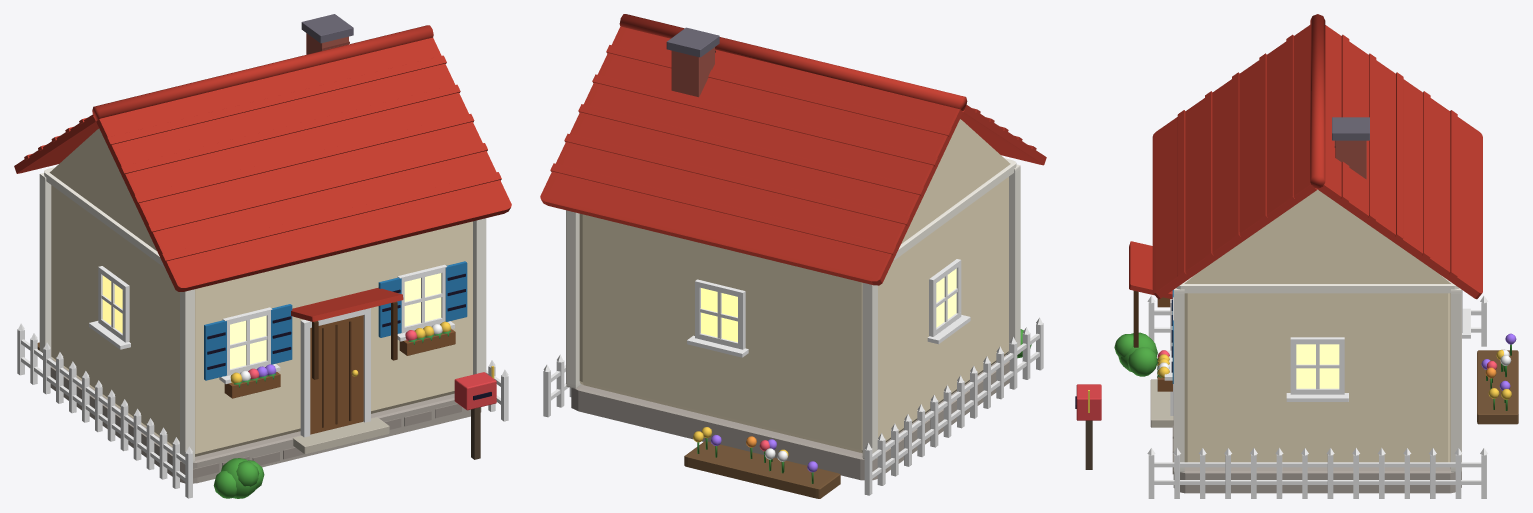
File: domek1.glb
3 renders of one model, left to right at view 1: azimuth 30°, elevation 25°; view 2: azimuth 150°, elevation 25°; view 3: azimuth 270°, elevation 25°, orthographic. The views are drawn at different scales.
Parts seen in each view (by area): view 1: domek1; view 2: domek1; view 3: domek1.
Boxes of the visible parts, x1,y1,x2,y2 form: domek1: (14,14,511,498); domek1: (540,14,1046,498); domek1: (1075,14,1518,498).
Bounding box in the file's own units: 5.54 × 5.43 × 6.4.
2 materials, 2 textured.
